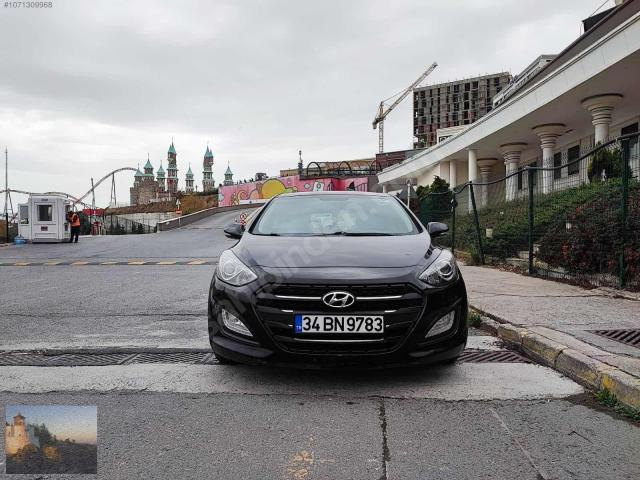plaka: (296, 315, 384, 333)
